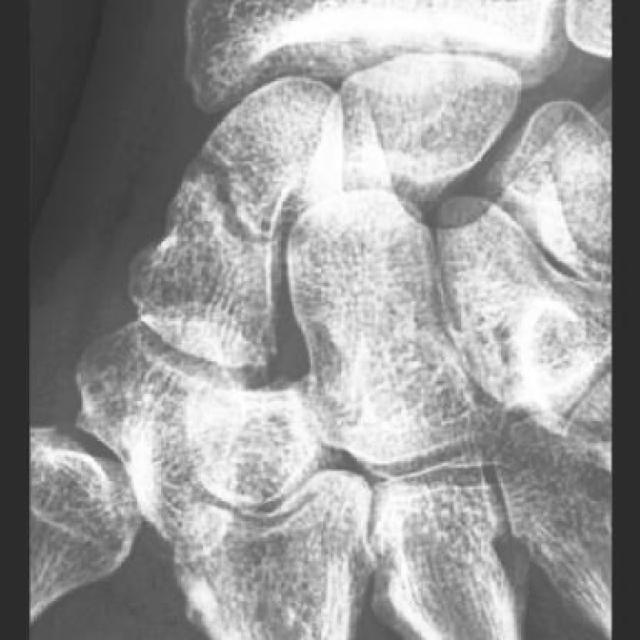Fracture: (168, 151, 288, 251)
